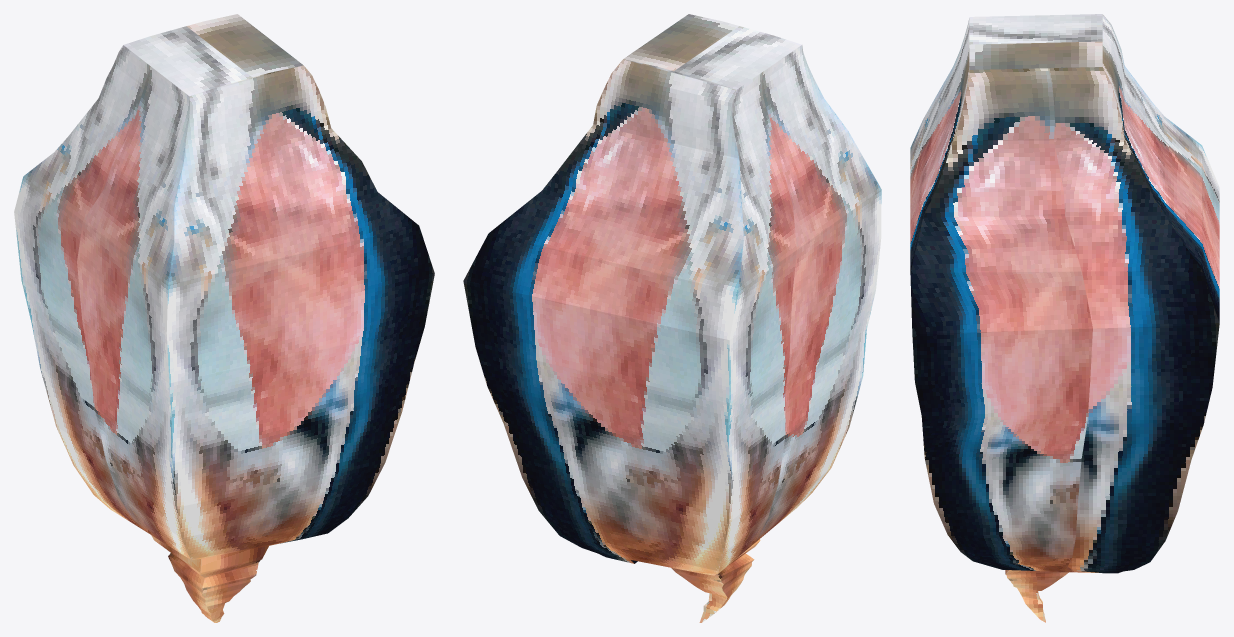
Rendered from metamorphosis_v16_t.glb.
The picture shows the model from 3 angles, left to right: view 1: azimuth 30°, elevation 25°; view 2: azimuth 150°, elevation 25°; view 3: azimuth 270°, elevation 25°; orthographic projection.
Parts seen in each view (by area): view 1: Cube; view 2: Cube; view 3: Cube.
Part boxes in pixels (x1=…): Cube: x1=14, y1=14, x2=434, y2=622; Cube: x1=463, y1=14, x2=881, y2=622; Cube: x1=910, y1=14, x2=1219, y2=622.
Size of the model in its own units: 1.12 by 2.3 by 1.11.
1 material, 1 textured.
